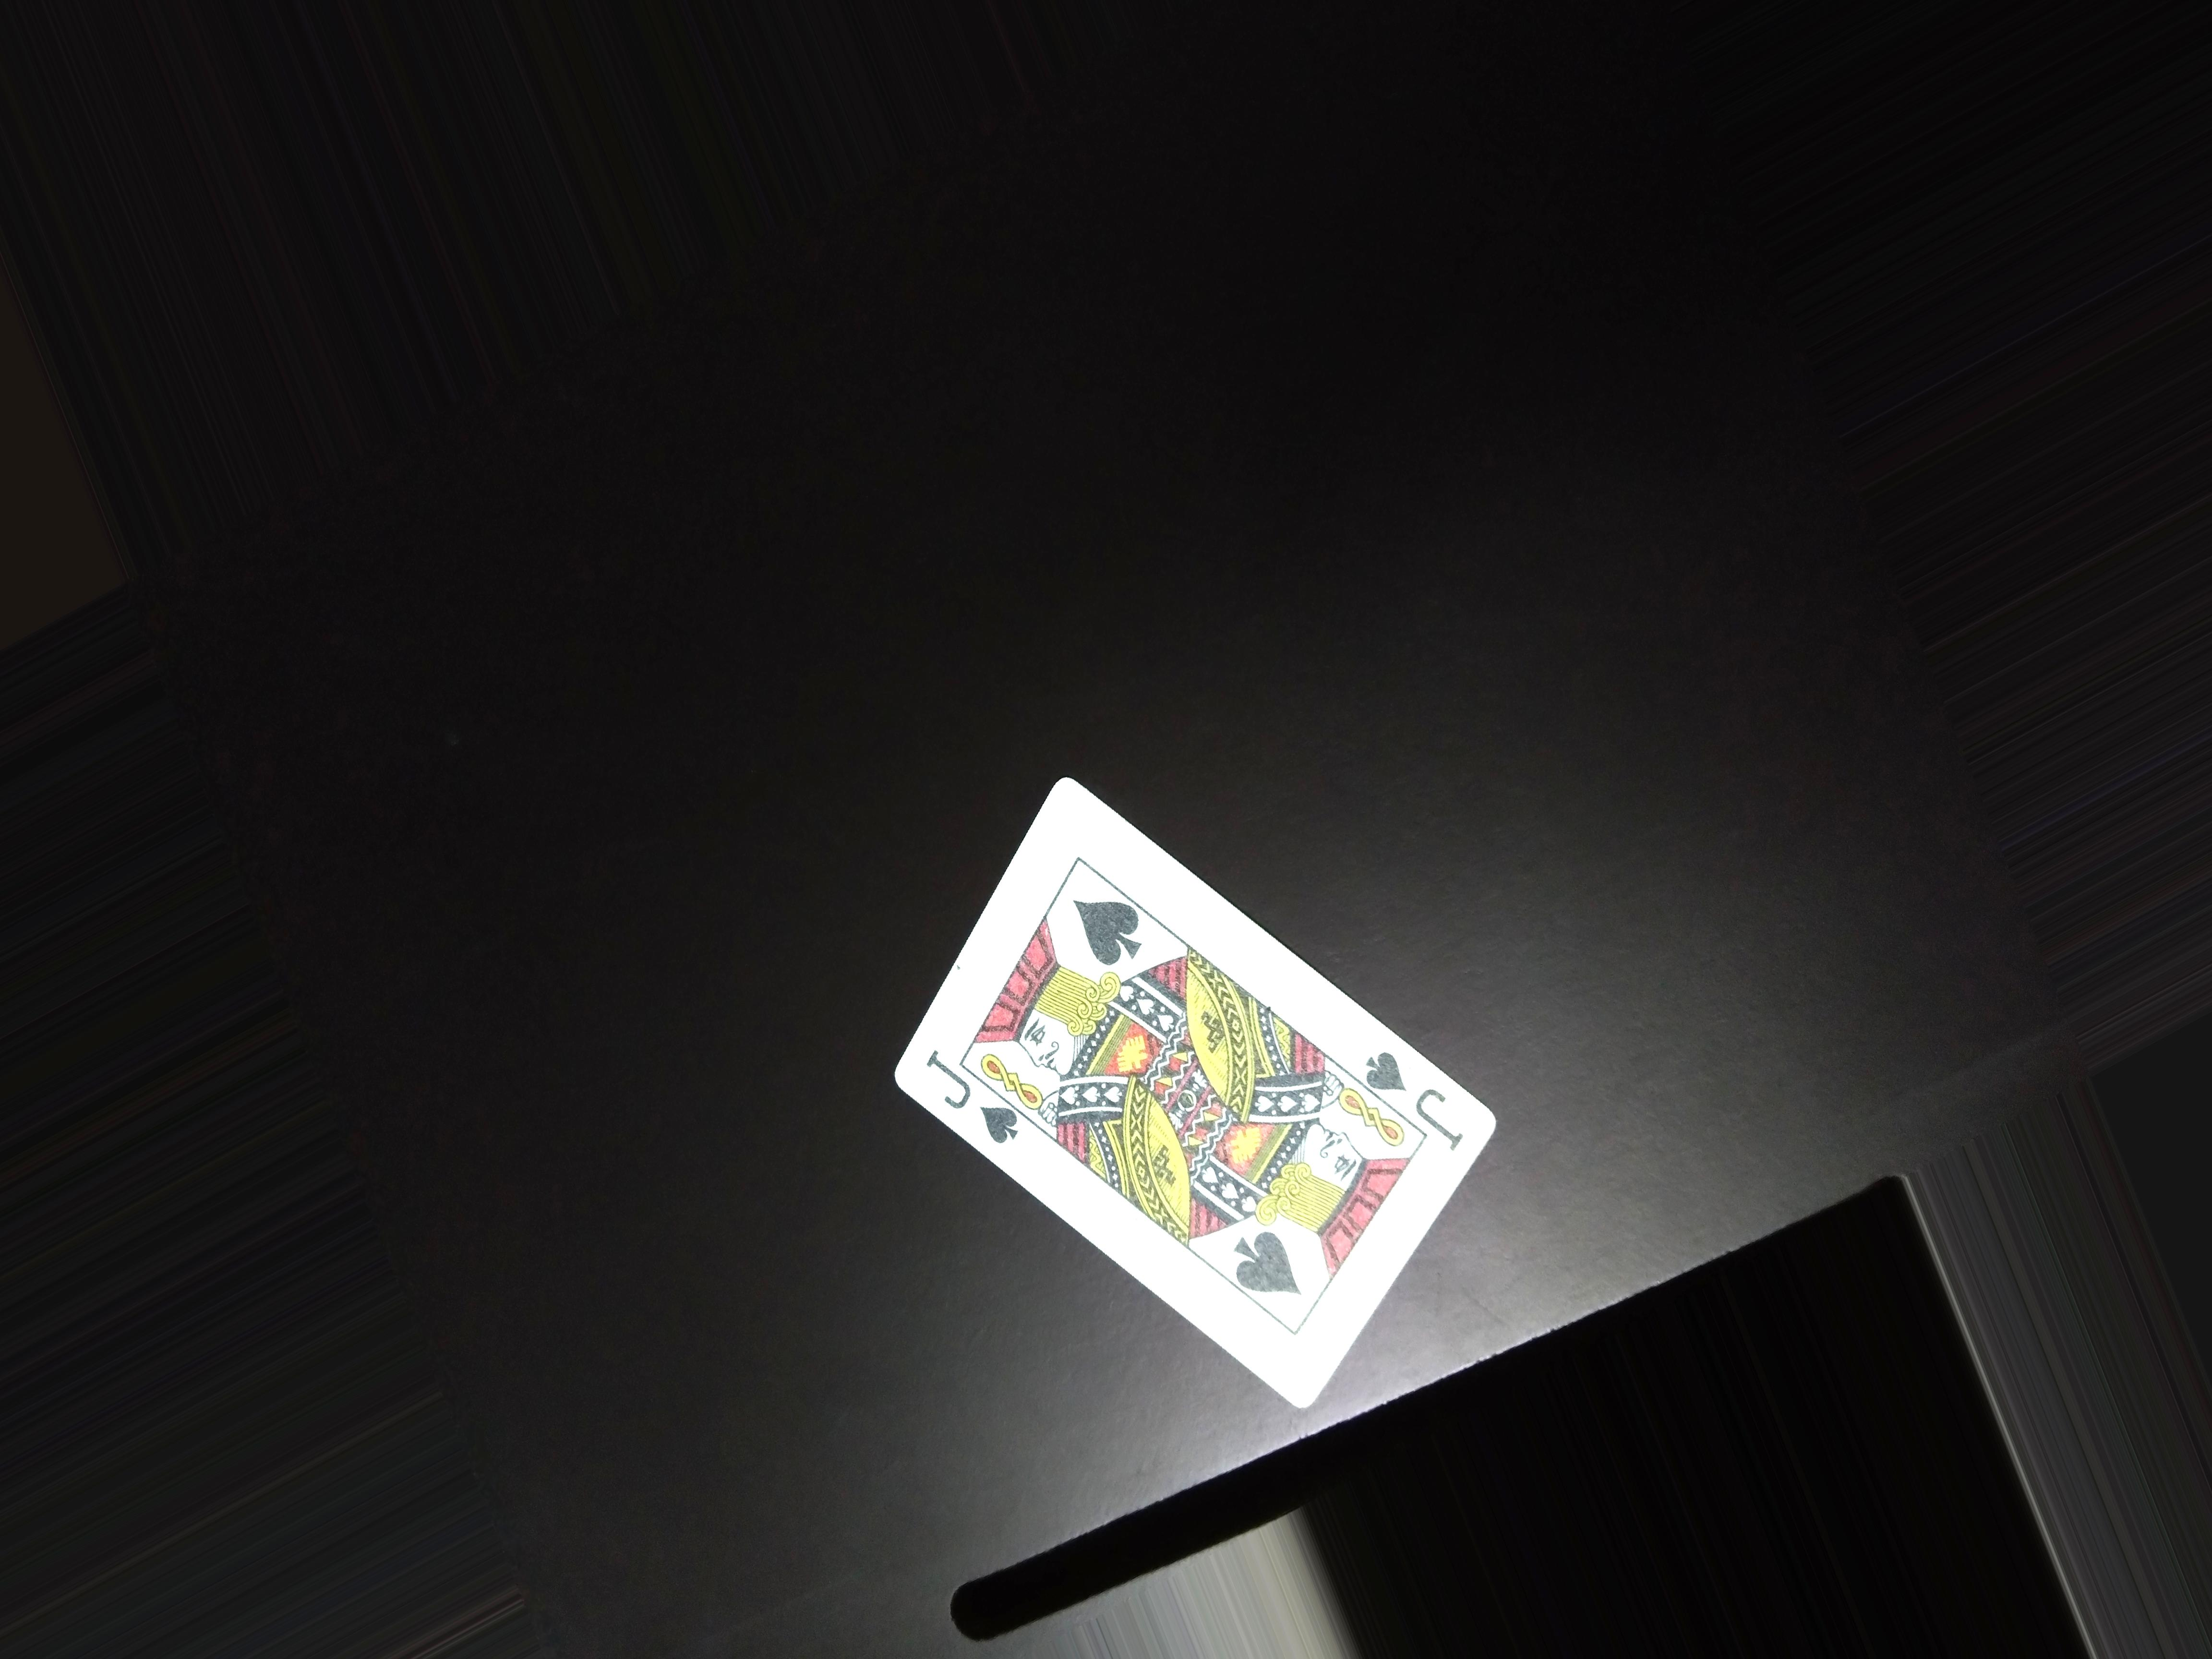JS: (1362, 1047, 1475, 1162)
